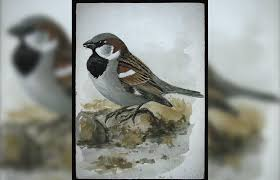hsparrow: (81, 27, 204, 134)
